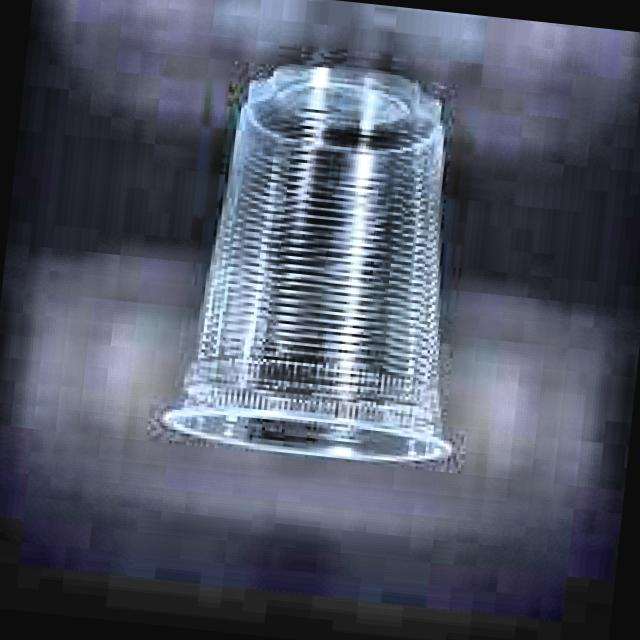plastic cup: (164, 66, 451, 461)
